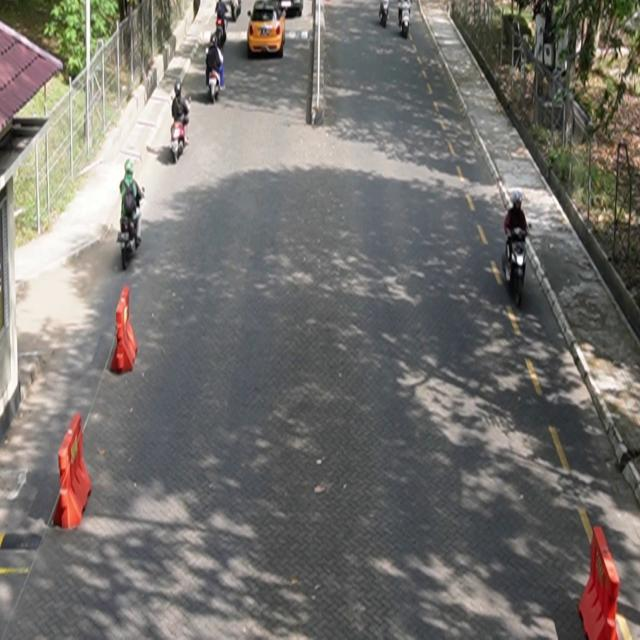car: (248, 1, 287, 58)
